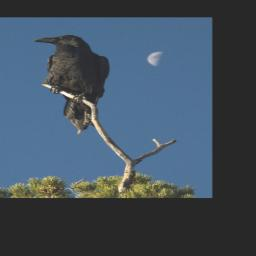Crow: (31, 34, 111, 137)
